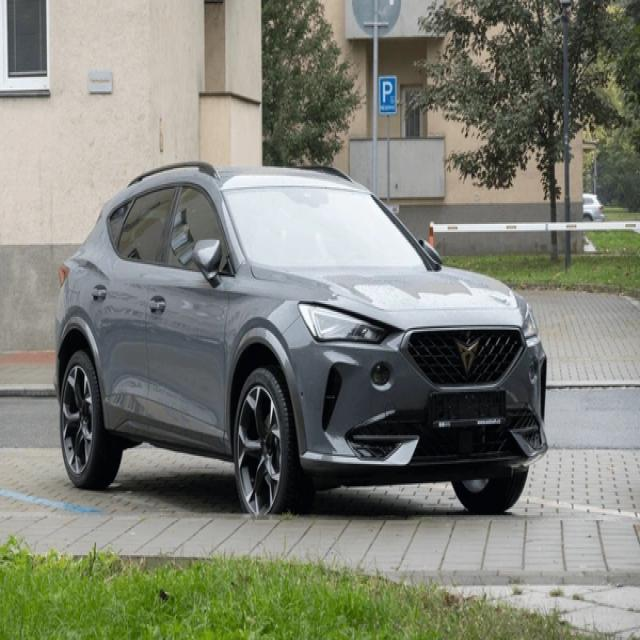cupra: (451, 332, 488, 370)
